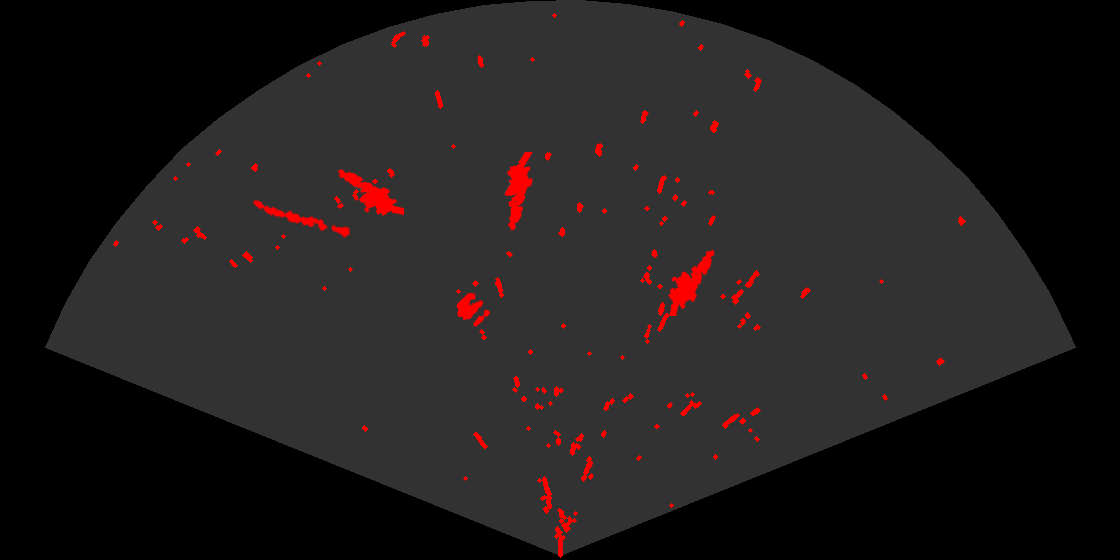ball: (455, 291, 492, 328)
chain: (251, 198, 353, 240)
frogman: (336, 168, 404, 217), (667, 248, 716, 316), (503, 152, 534, 232)
